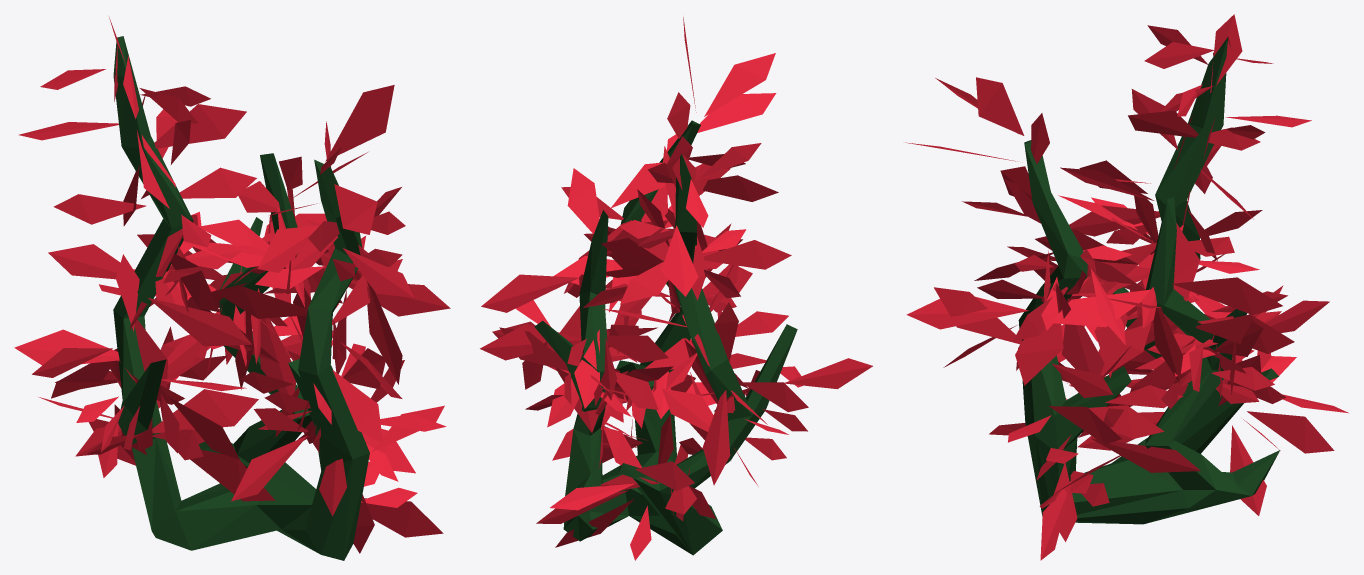
The picture shows the model from 3 angles, left to right: view 1: azimuth 30°, elevation 25°; view 2: azimuth 150°, elevation 25°; view 3: azimuth 270°, elevation 25°; orthographic projection. The views are drawn at different scales.
Parts seen in each view (by area): view 1: Krzak2; view 2: Krzak2; view 3: Krzak2.
Boxes of the visible parts, left/top/right/bottom form: Krzak2: left=14, top=17, right=450, bottom=560; Krzak2: left=480, top=17, right=872, bottom=560; Krzak2: left=906, top=14, right=1348, bottom=560.
Size of the model in its own units: 1091 by 1506 by 1330.
